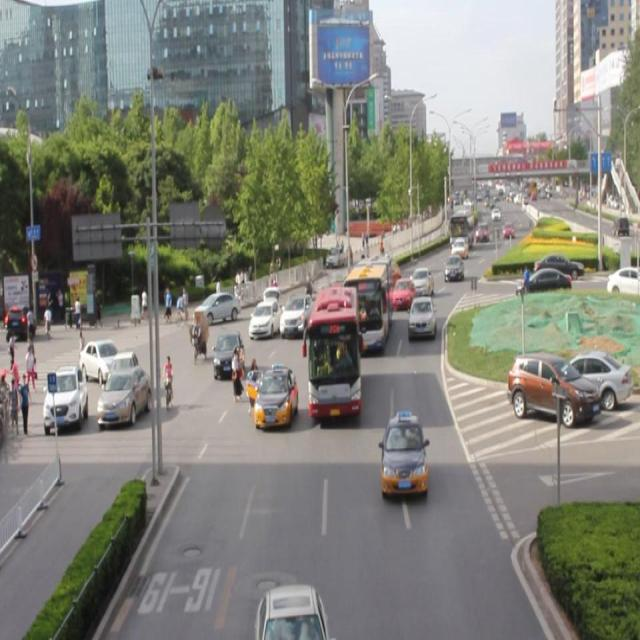car: (254, 579, 327, 640), (381, 409, 427, 495), (252, 362, 296, 424), (213, 328, 244, 378), (279, 292, 313, 336), (249, 297, 281, 338), (407, 292, 435, 336), (392, 274, 415, 309), (409, 265, 434, 296), (380, 258, 401, 287), (443, 252, 463, 281)
van: (308, 283, 361, 417), (344, 254, 389, 354)
